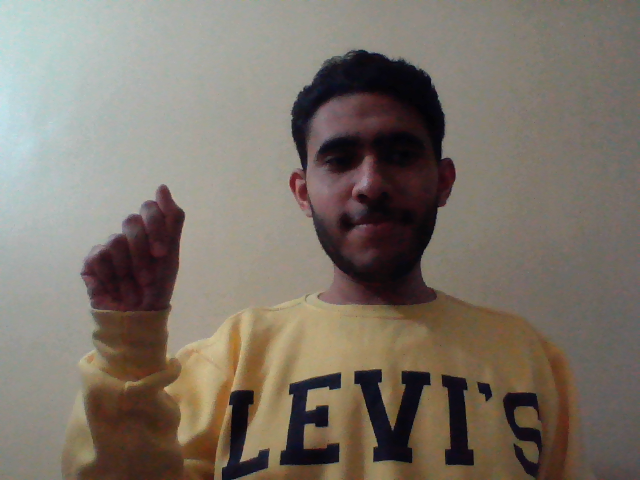A: (79, 183, 189, 321)
